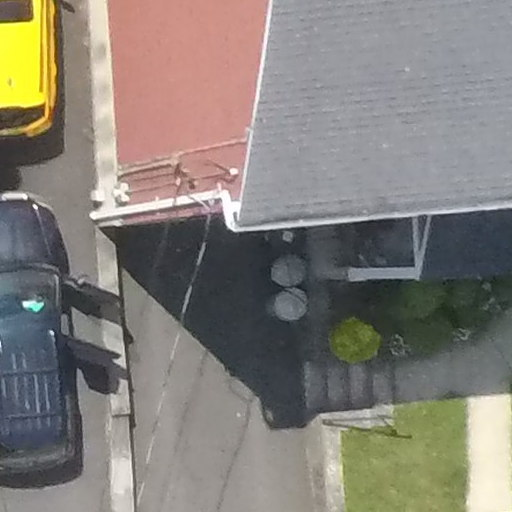car: (1, 183, 79, 487), (1, 1, 65, 152)
container: (265, 285, 312, 328), (270, 251, 309, 287)
gutter: (225, 197, 512, 241), (90, 177, 239, 235)
